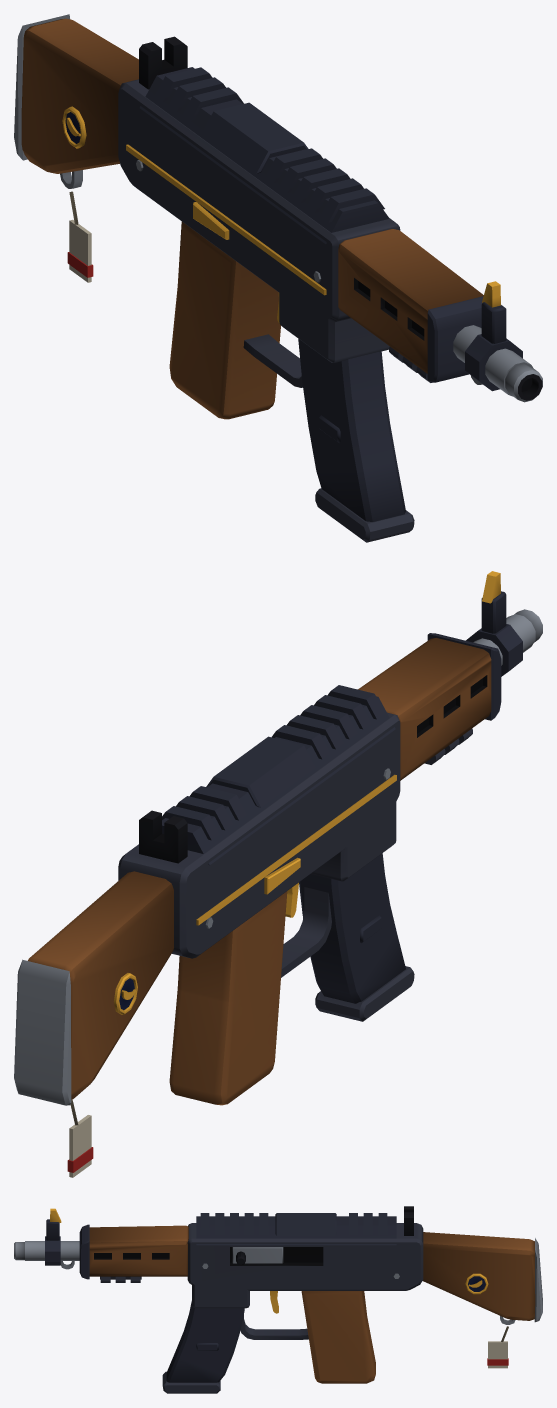
The model's file is contraband_carbine.glb.
3 renders of one model, top to bottom at view 1: azimuth 30°, elevation 25°; view 2: azimuth 150°, elevation 25°; view 3: azimuth 270°, elevation 25°, orthographic. The views are drawn at different scales.
Visible parts, largest first — view 1: frame, mag; view 2: frame, mag; view 3: frame, mag, bolt.
Boxes of the visible parts, x1,y1,x2,y2 form: frame: (14,14,542,419); mag: (298,339,414,542); frame: (14,571,542,1177); mag: (299,853,414,1021); frame: (14,1206,542,1383); mag: (162,1301,244,1393); bolt: (232,1247,283,1265).
Size of the model in its own units: 0.256 by 0.8835 by 2.38.
Materials: 1 (1 with a texture image).
